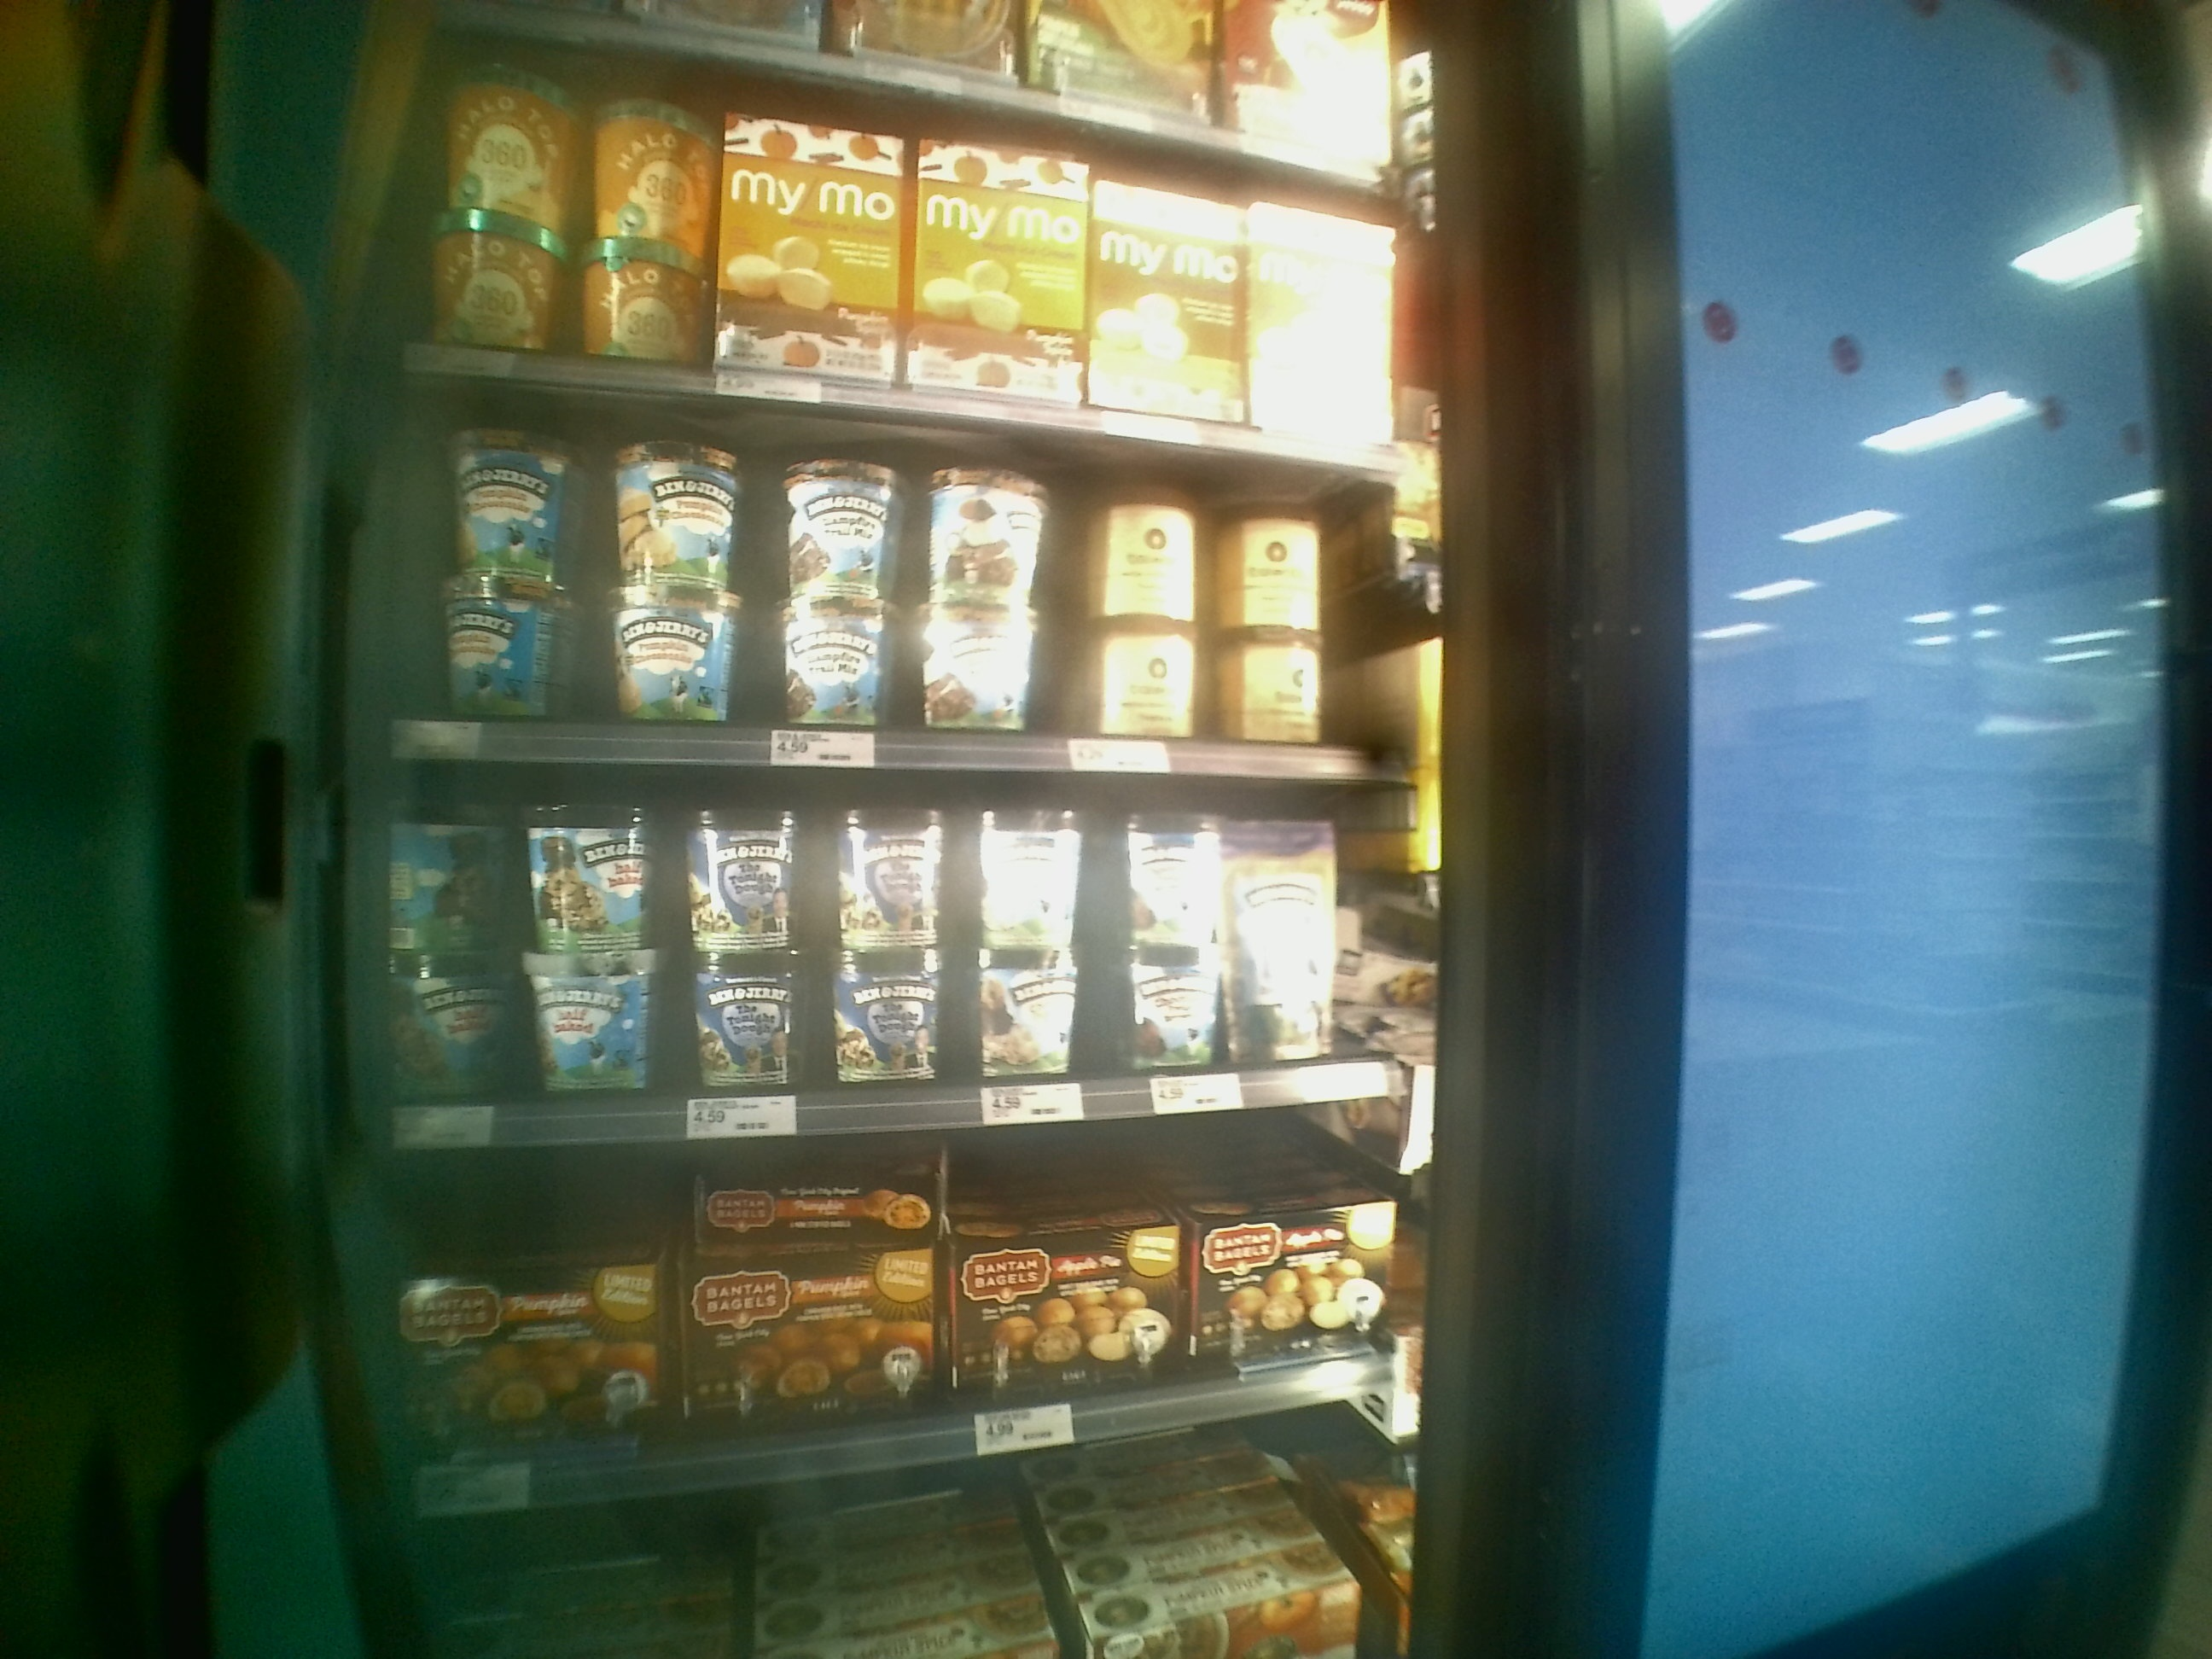shelf: (350, 390, 1421, 788), (324, 769, 1433, 1124), (345, 1138, 1428, 1500)
